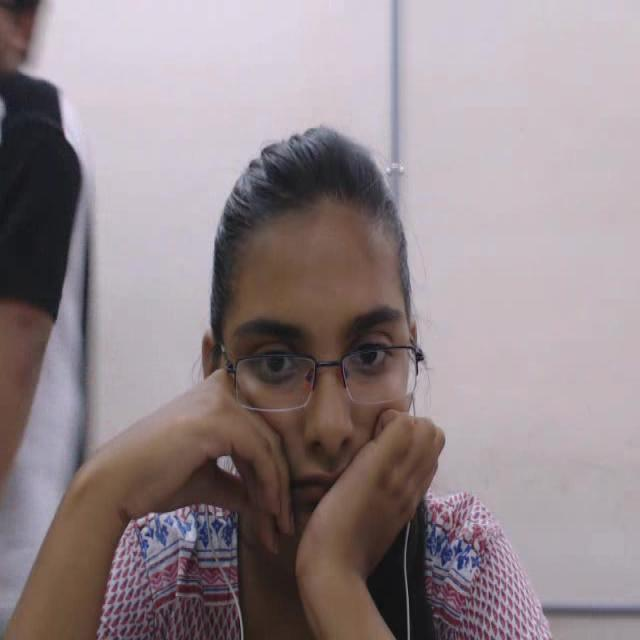Bored: (198, 122, 443, 579)
